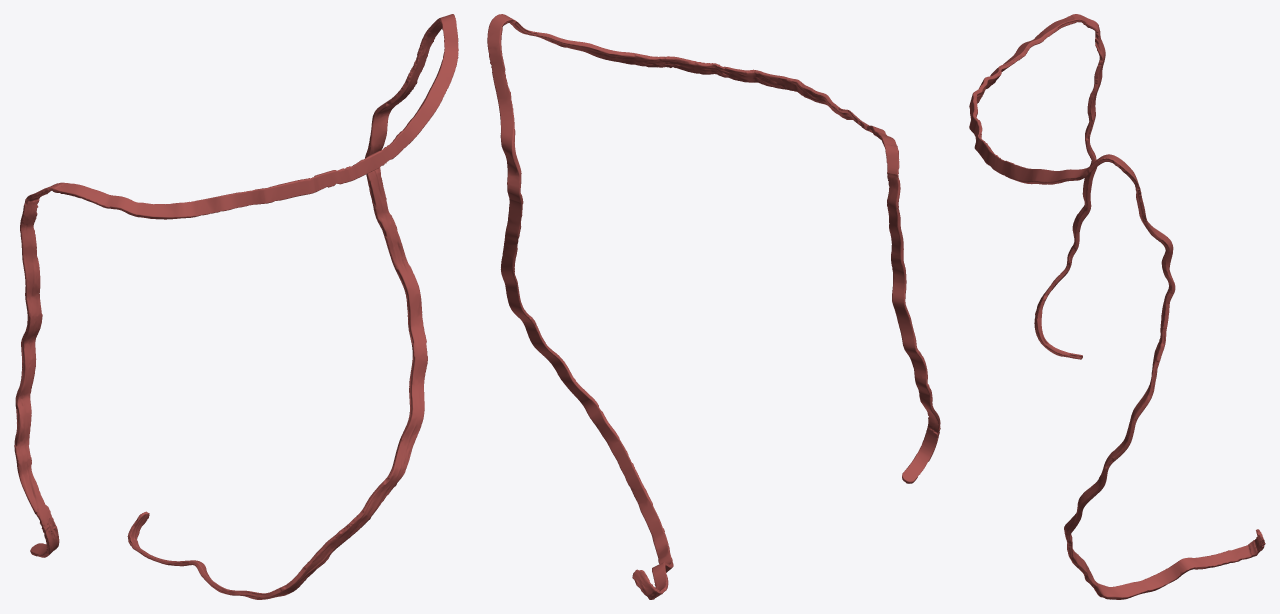
Rendered from FMA76893.glb.
3 renders of one model, left to right at view 1: azimuth 30°, elevation 25°; view 2: azimuth 150°, elevation 25°; view 3: azimuth 270°, elevation 25°, orthographic. The views are drawn at different scales.
Parts seen in each view (by area): view 1: FMA76893; view 2: FMA76893; view 3: FMA76893.
Part boxes in pixels (x1=…): FMA76893: x1=14, y1=14, x2=458, y2=599; FMA76893: x1=487, y1=14, x2=940, y2=599; FMA76893: x1=969, y1=14, x2=1265, y2=599.
Size of the model in its own units: 0.1819 by 0.2065 by 0.1047.
